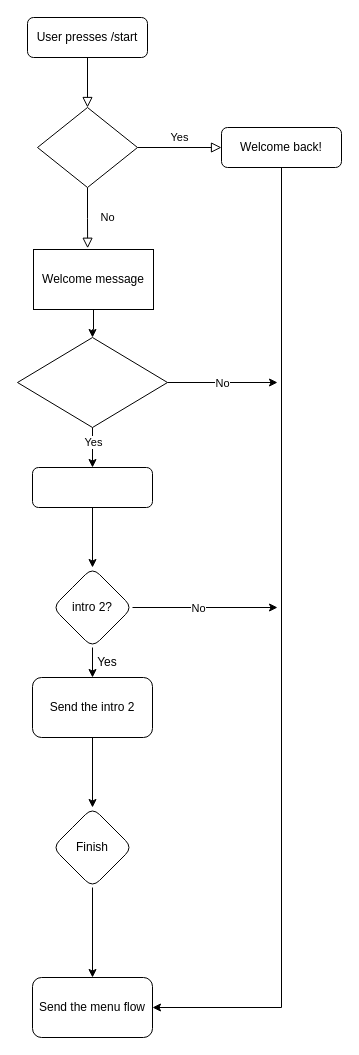
This 359x1055 diagram has some shape labels left out. Here are the shapes that lost their labels. From the top down, the centre of each, then its label:
the point at 87,147: Is user registered?
the point at 92,382: Does user want to see intro?
the point at 92,487: Send intro 1
